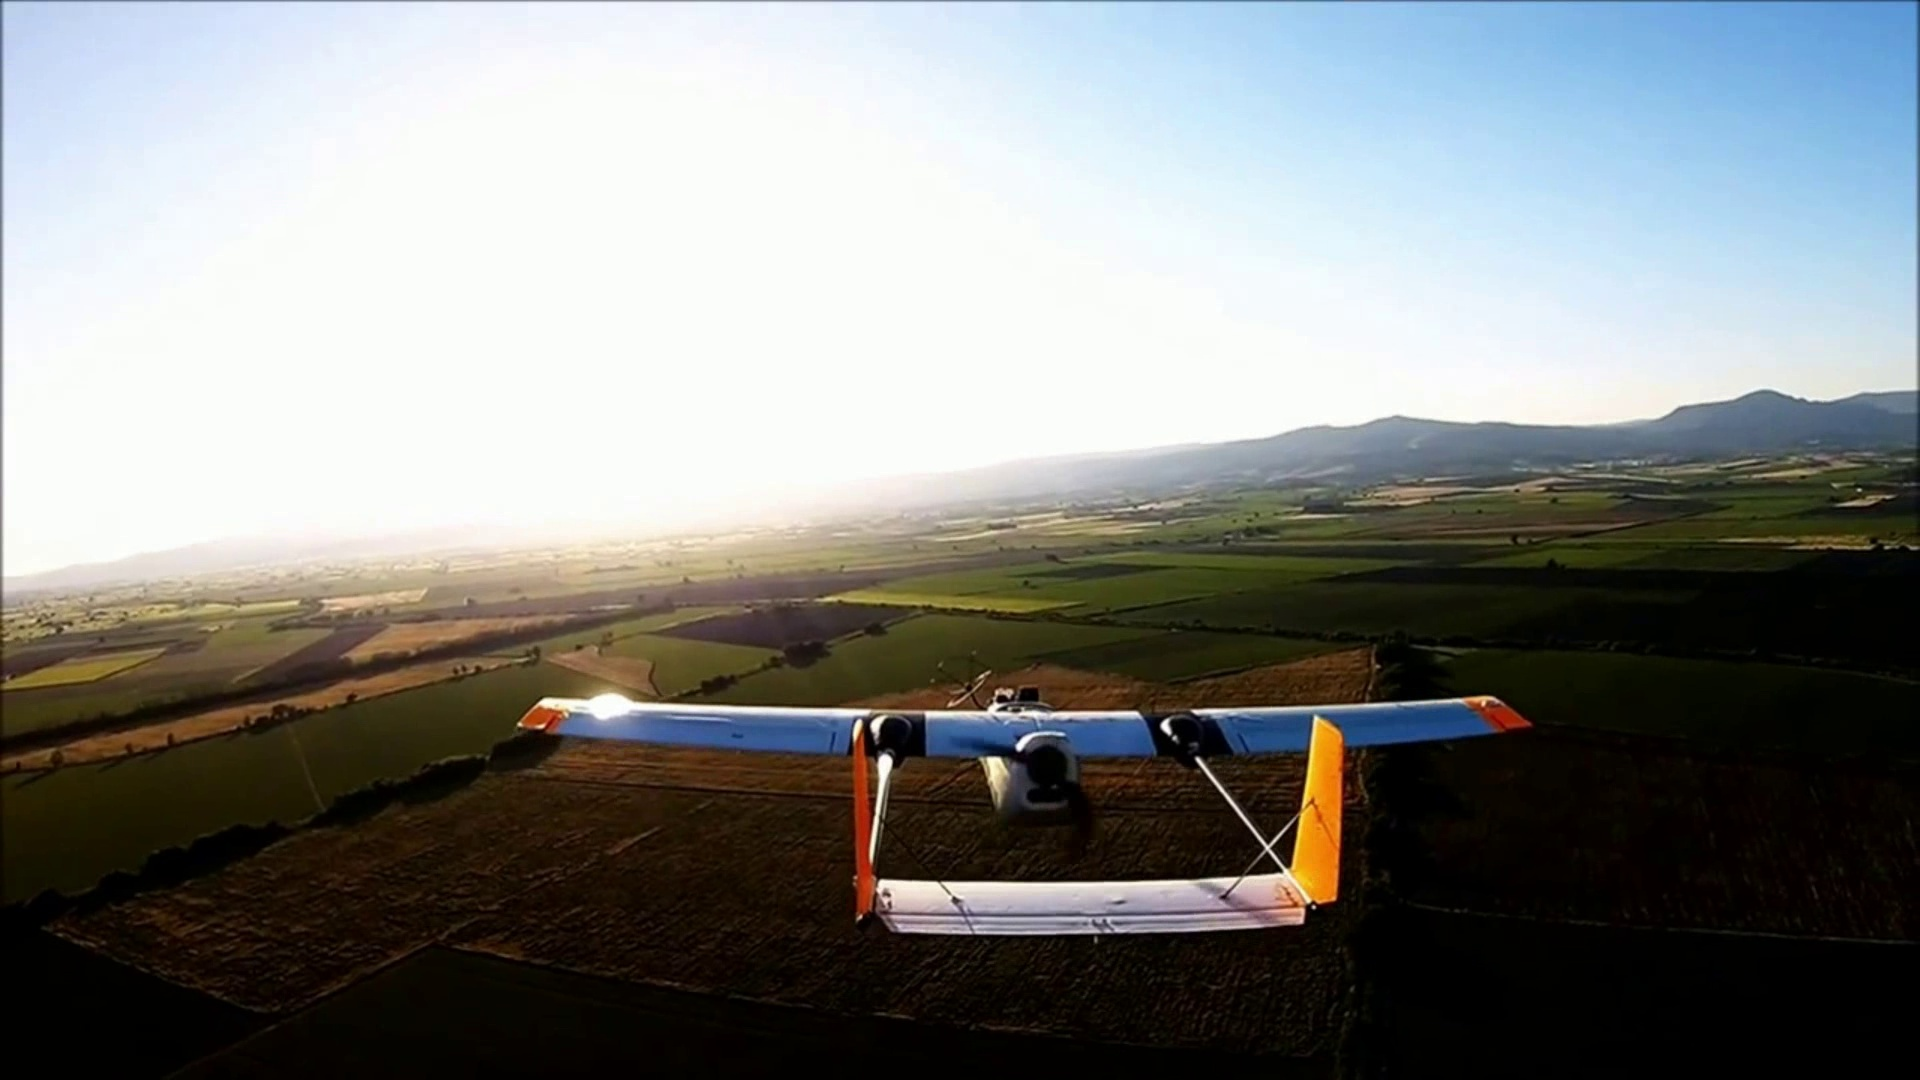airplane: (518, 691, 1532, 939)
